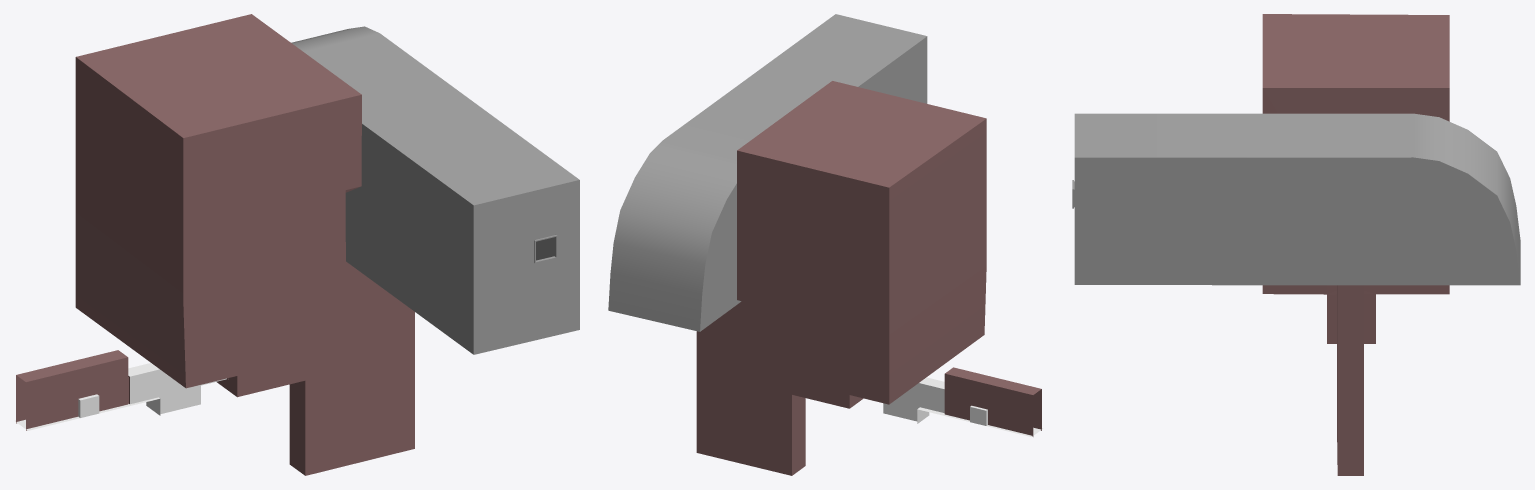
Rendered from Level Geo.fbx.
3 renders of one model, left to right at view 1: azimuth 30°, elevation 25°; view 2: azimuth 150°, elevation 25°; view 3: azimuth 270°, elevation 25°, orthographic. The views are drawn at different scales.
Visible parts, largest first — view 1: Tutoial_3_Unclimabable, Lv3:Level1, Tutoial_1_unclib, Tutoial_2_climy, Tutoial_1_Floor; view 2: Tutoial_3_Unclimabable, Lv3:Level1, Tutoial_1_unclib, Tutoial_2_climy, Tutoial_1_Floor; view 3: Lv3:Level1, Tutoial_3_Unclimabable.
Part boxes in pixels (x1,y1,x2,y2): Tutoial_3_Unclimabable: (75,14,414,475); Lv3:Level1: (291,26,579,354); Tutoial_1_unclib: (16,350,129,430); Tutoial_2_climy: (128,363,226,414); Tutoial_1_Floor: (14,394,160,430); Tutoial_3_Unclimabable: (696,81,986,475); Lv3:Level1: (608,14,927,331); Tutoial_1_unclib: (944,367,1041,436); Tutoial_2_climy: (883,377,944,421); Tutoial_1_Floor: (917,405,1043,436); Lv3:Level1: (1072,113,1520,285); Tutoial_3_Unclimabable: (1262,14,1449,475).
Size of the model in its own units: 9069 by 8976 by 10478.
